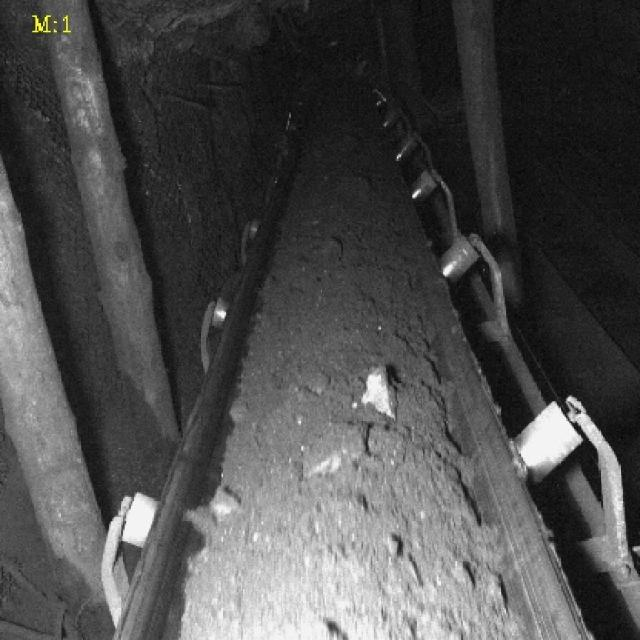large_sized_coal: (303, 429, 365, 477), (363, 364, 397, 416)
